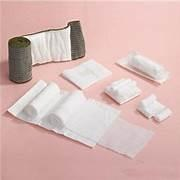cotton: (8, 80, 152, 157), (8, 80, 119, 145), (8, 21, 85, 82), (43, 91, 118, 142), (40, 99, 118, 145), (24, 21, 85, 64), (8, 80, 67, 123), (66, 99, 119, 142), (99, 118, 153, 157), (41, 90, 86, 130), (24, 26, 70, 64), (117, 52, 168, 83), (62, 60, 111, 88), (50, 91, 86, 126), (24, 82, 59, 116), (8, 37, 31, 82), (137, 94, 171, 121), (105, 78, 140, 103), (129, 54, 164, 79), (55, 129, 95, 146), (138, 94, 163, 117), (154, 108, 171, 121)
